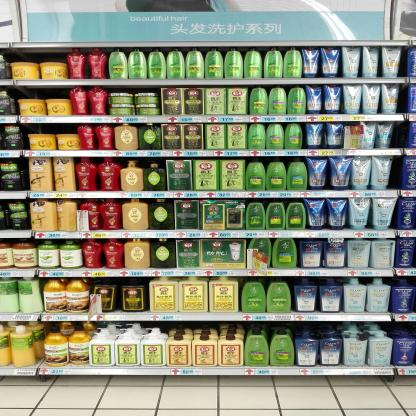Void: (16, 49, 67, 63), (21, 88, 69, 99), (30, 124, 74, 132), (393, 124, 408, 146), (393, 158, 404, 188)
